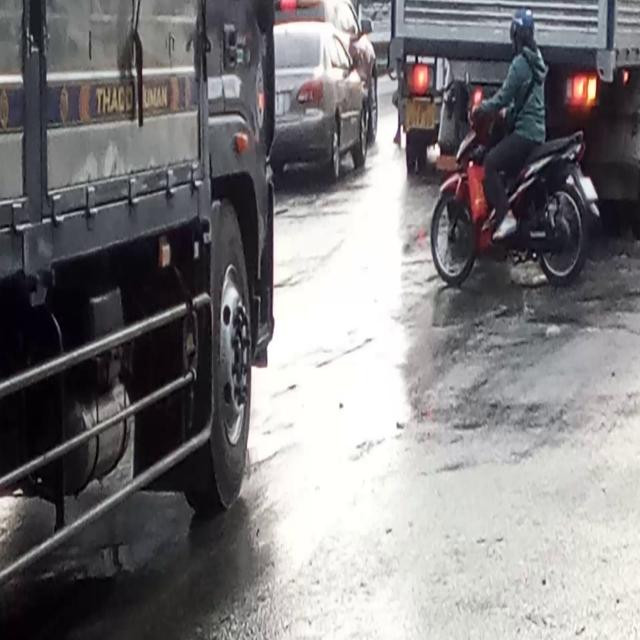bien_vang: (404, 96, 437, 131)
